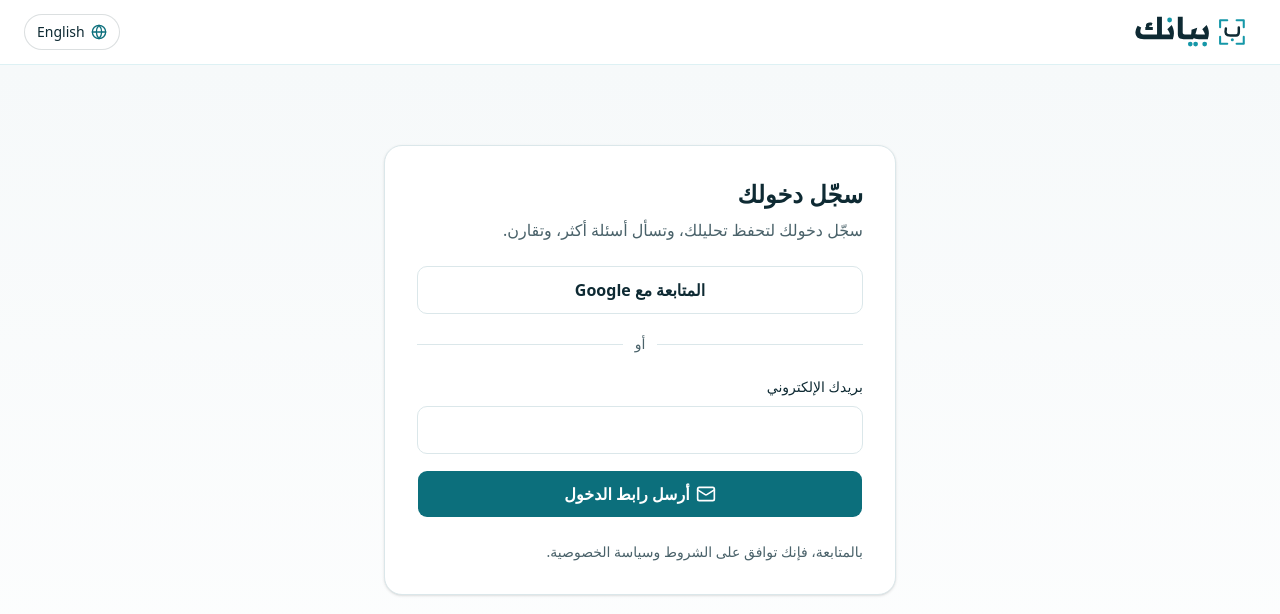
Test: sends the link, then says to check the email
Type "sara@example.com" into the field labelled "بريدك الإلكتروني". click: (640, 430)
box: [417,406,863,454]
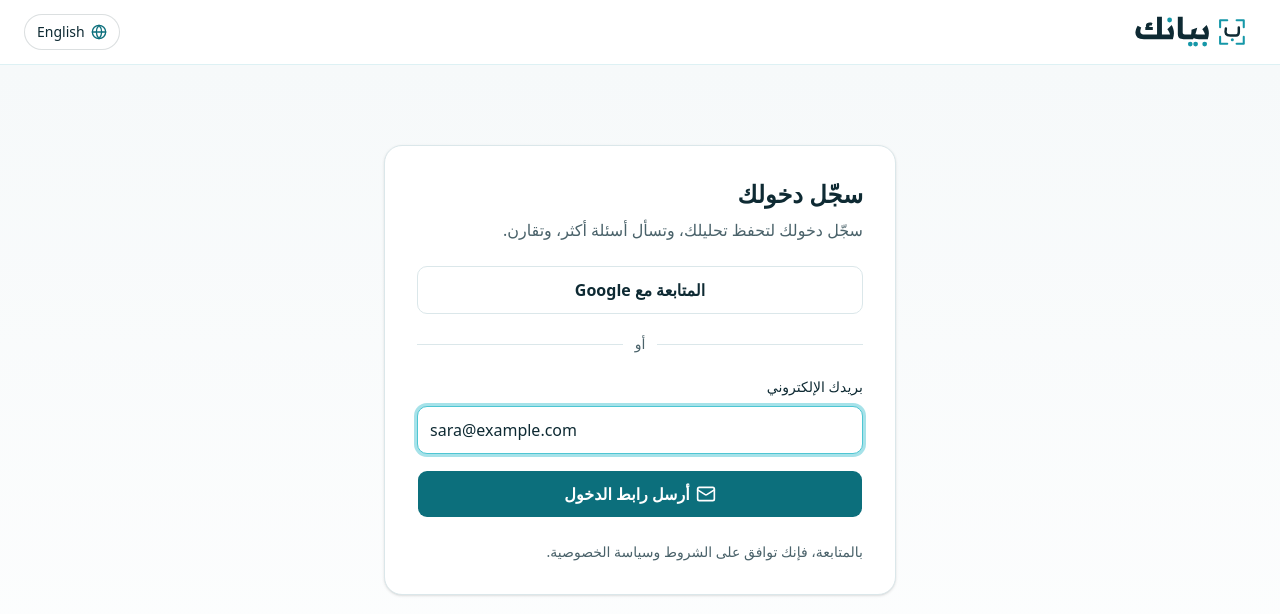
Click the button "أرسل رابط الدخول". click: (640, 494)
box: [417,470,863,518]
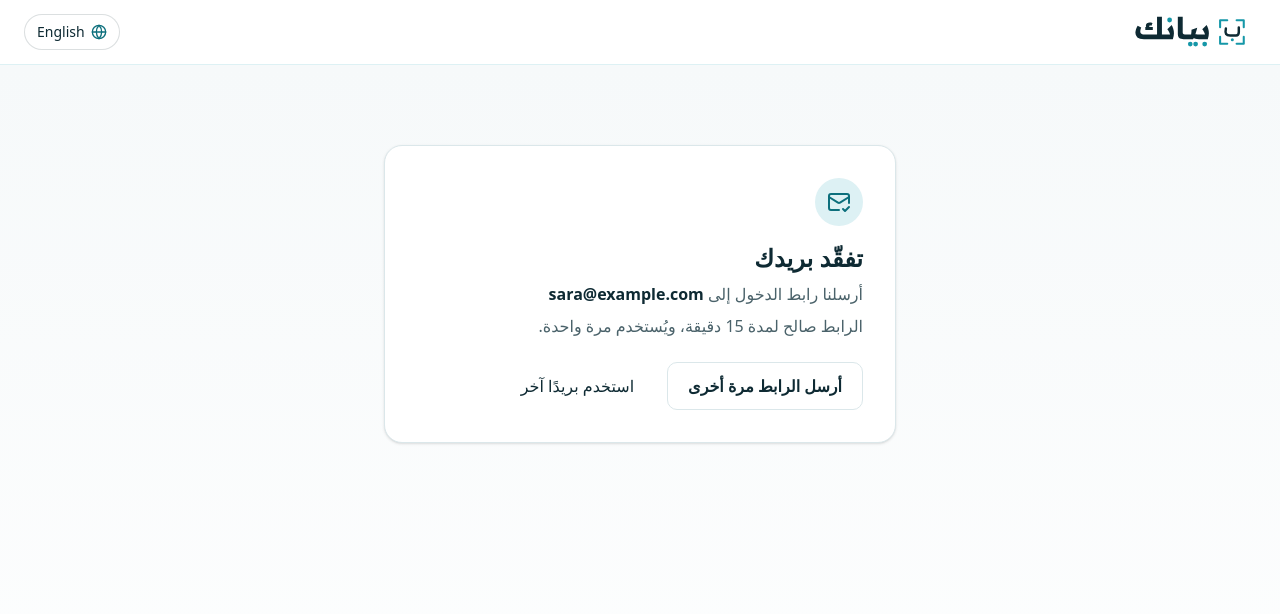
Now the heading "تفقّد بريدك" is shown, box [754,241,863,274]
Now the text "sara@example.com" is shown, box [549,283,704,305]
